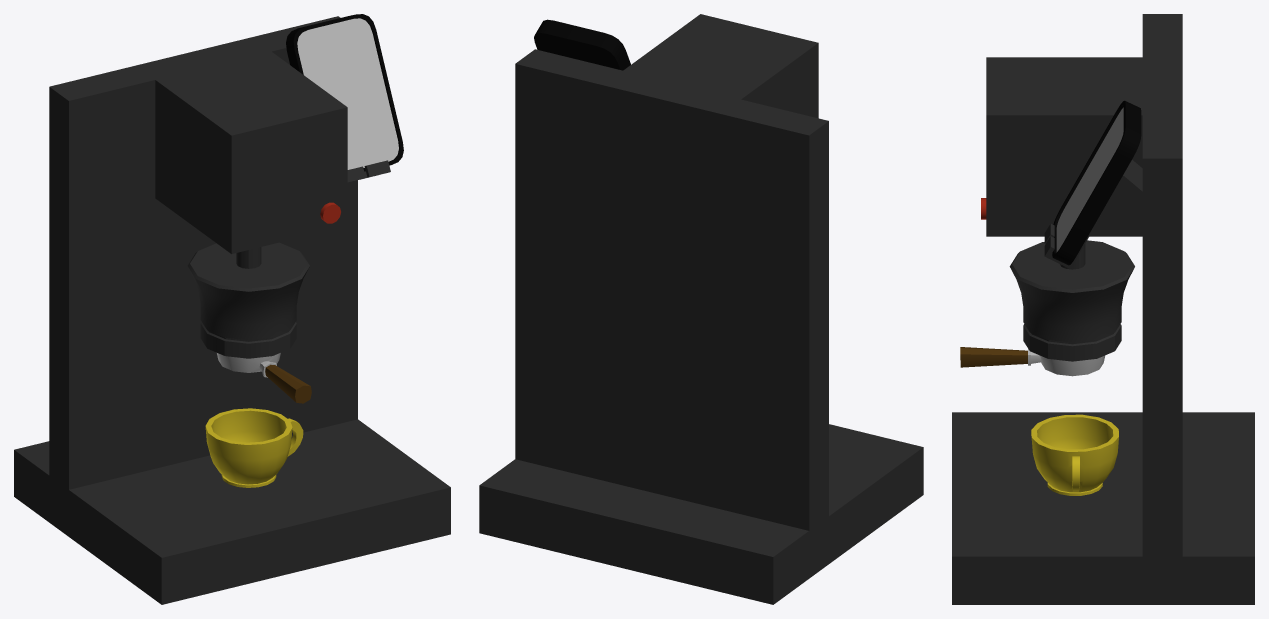
Rendered from OBJ_CoffeeMachine_MapX.fbx.
3 renders of one model, left to right at view 1: azimuth 30°, elevation 25°; view 2: azimuth 150°, elevation 25°; view 3: azimuth 270°, elevation 25°, orthographic. The views are drawn at different scales.
Visible parts, largest first — view 1: Box001, Cylinder002, Box002, Sphere001; view 2: Box001, Box002; view 3: Box001, Cylinder002, Box002, Sphere001.
Boxes of the visible parts, x1,y1,x2,y2 form: Box001: (14, 16, 450, 604); Cylinder002: (187, 242, 311, 403); Box002: (286, 14, 403, 171); Sphere001: (205, 408, 303, 487); Box001: (479, 14, 923, 604); Box002: (534, 19, 630, 70); Box001: (952, 14, 1254, 604); Cylinder002: (960, 240, 1134, 376); Box002: (1052, 100, 1141, 265); Sphere001: (1031, 414, 1118, 495).
Size of the model in its own units: 53.53 by 79.97 by 46.52.
